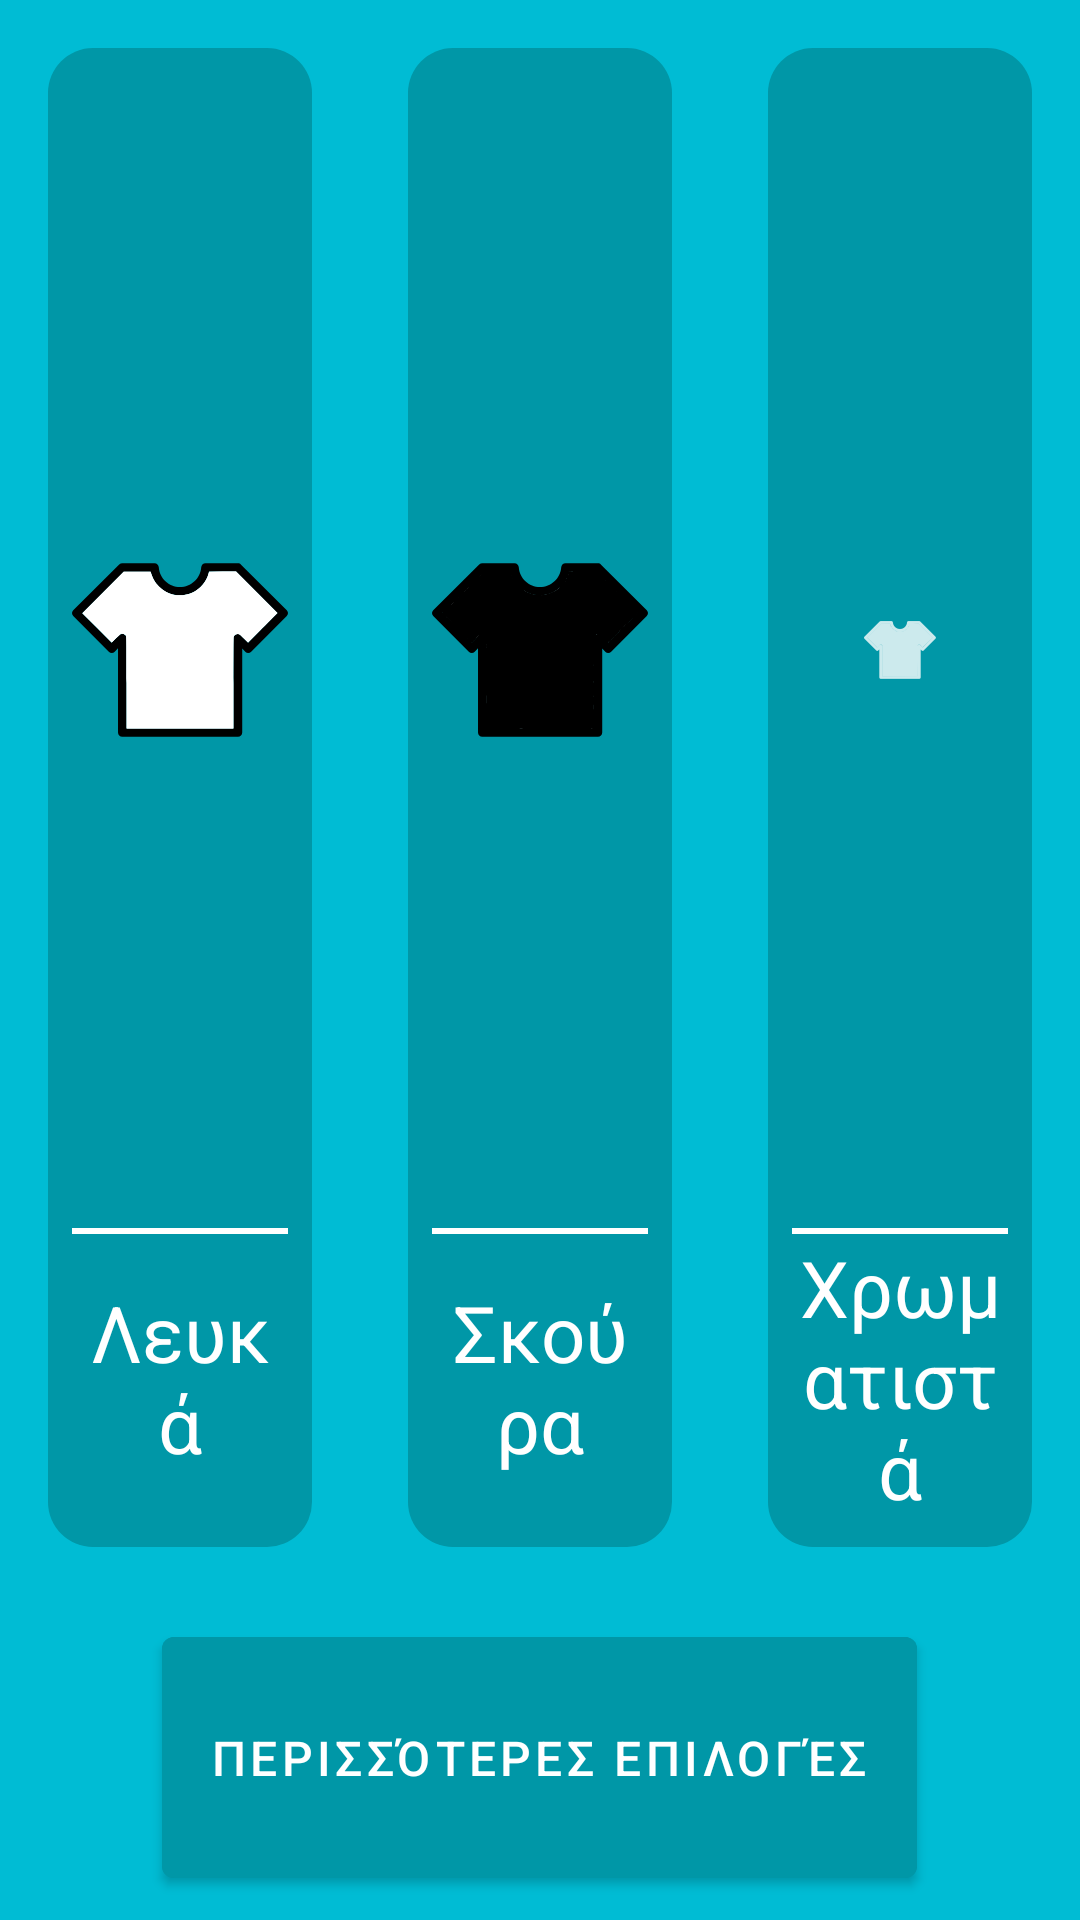

Locate icon controls on the screen. Image size 1080x1920, boxes as (x1, y1, x2, y2).
tshirt: (432, 563, 648, 737), (864, 621, 936, 679)
